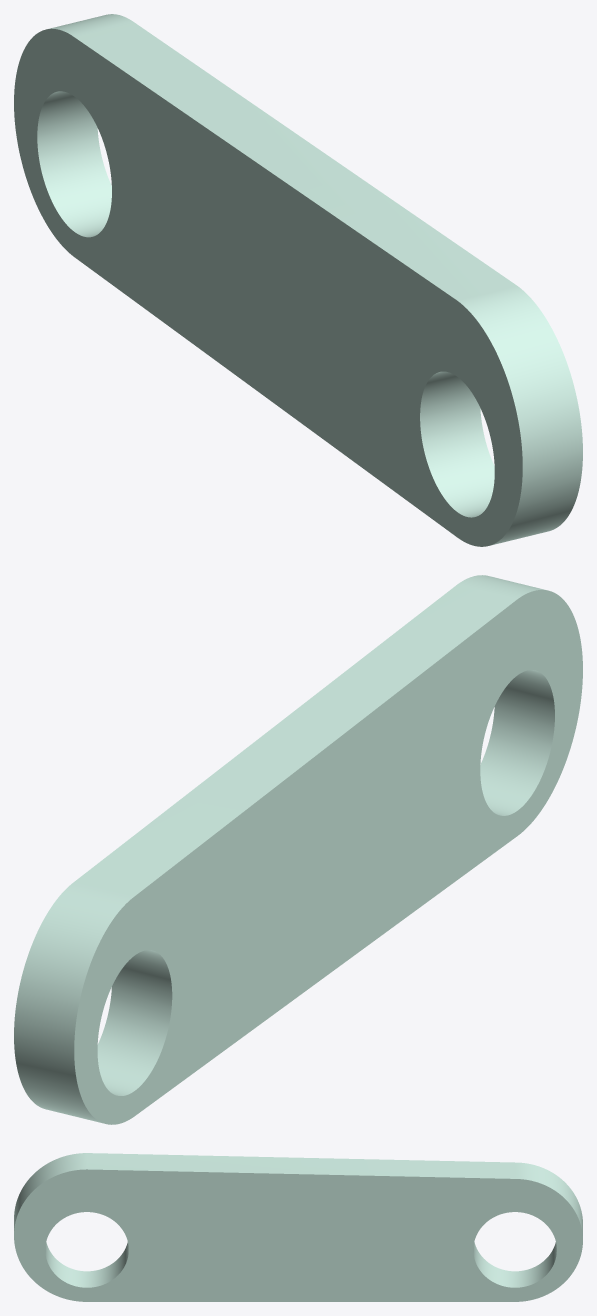
The picture shows the model from 3 angles, top to bottom: view 1: azimuth 30°, elevation 25°; view 2: azimuth 150°, elevation 25°; view 3: azimuth 270°, elevation 25°; orthographic projection. The views are drawn at different scales.
Parts seen in each view (by area): view 1: Renderer Node; view 2: Renderer Node; view 3: Renderer Node.
Part boxes in pixels (left/top/right/bottom): Renderer Node: left=14, top=14, right=582, bottom=546; Renderer Node: left=14, top=575, right=582, bottom=1124; Renderer Node: left=14, top=1153, right=582, bottom=1301.
Bounding box in the file's own units: 0.0938 × 0.3523 × 1.37.
